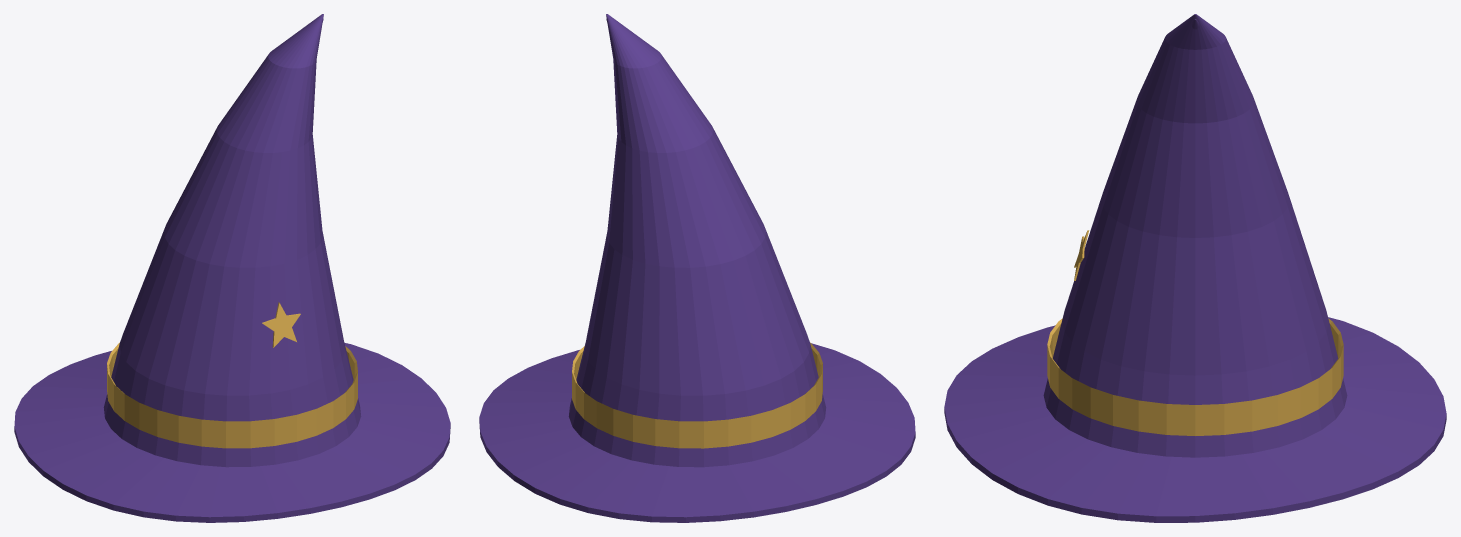
The model's file is hat_wizard.glb.
3 views of the same model, side by side, from view 1: azimuth 30°, elevation 25°; view 2: azimuth 150°, elevation 25°; view 3: azimuth 270°, elevation 25° (orthographic). The views are drawn at different scales.
Visible parts, largest first — view 1: Wizard_Bent_Point, Wizard_Round_Brim, Wizard_Gold_Hatband, Wizard_Front_Star; view 2: Wizard_Bent_Point, Wizard_Round_Brim, Wizard_Gold_Hatband; view 3: Wizard_Bent_Point, Wizard_Round_Brim, Wizard_Gold_Hatband.
Boxes of the visible parts, x1,y1,x2,y2 form: Wizard_Bent_Point: (103,14,361,467); Wizard_Round_Brim: (14,342,450,522); Wizard_Gold_Hatband: (107,342,357,448); Wizard_Front_Star: (262,302,300,347); Wizard_Bent_Point: (568,14,826,467); Wizard_Round_Brim: (479,343,915,522); Wizard_Gold_Hatband: (572,342,822,448); Wizard_Bent_Point: (1043,14,1347,457); Wizard_Round_Brim: (944,317,1446,522); Wizard_Gold_Hatband: (1047,318,1343,435).
Size of the model in its own units: 0.41 by 0.411 by 0.41.
